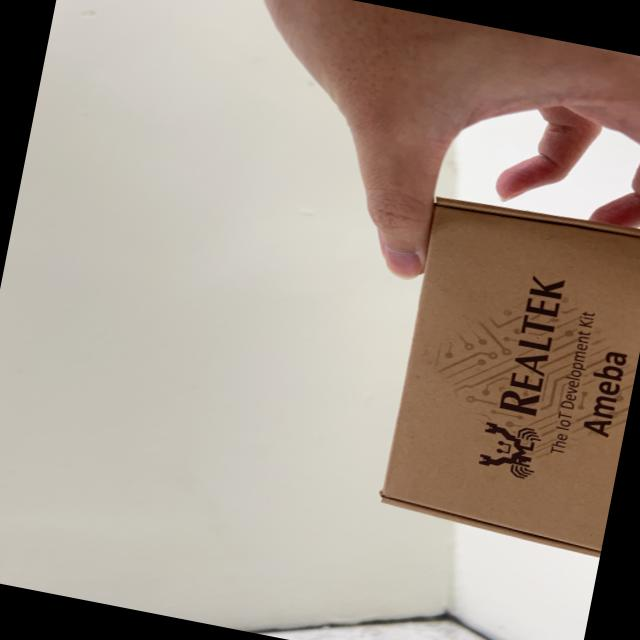box: (345, 164, 640, 587)
